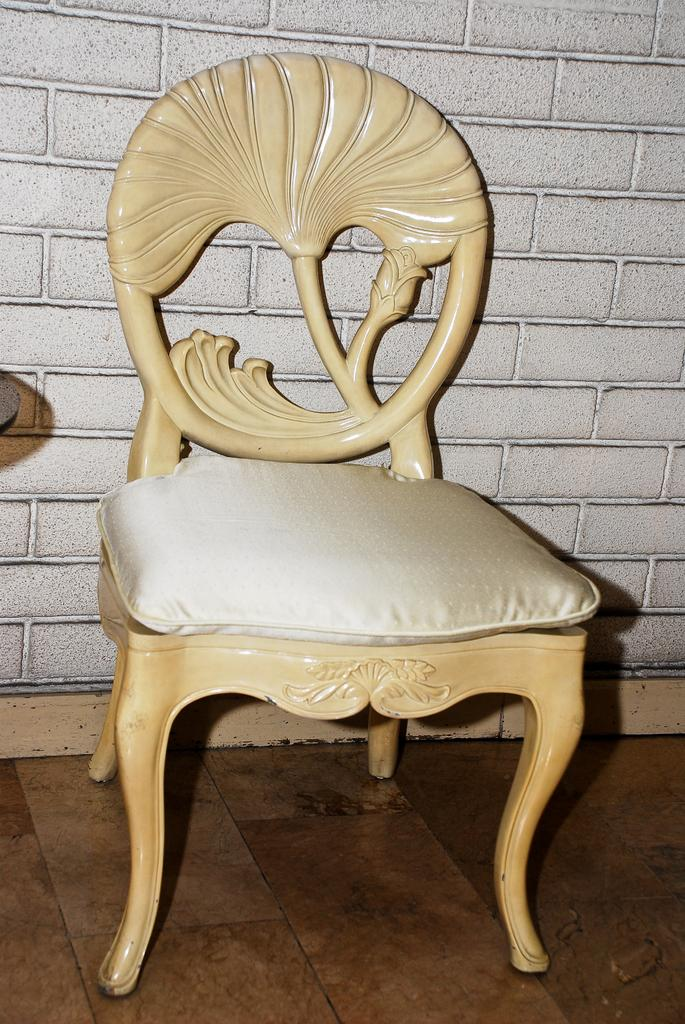Chair: (88, 47, 610, 988)
